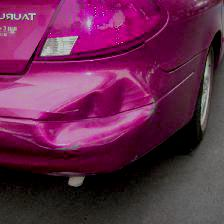bumper_dent: (18, 36, 168, 166)
